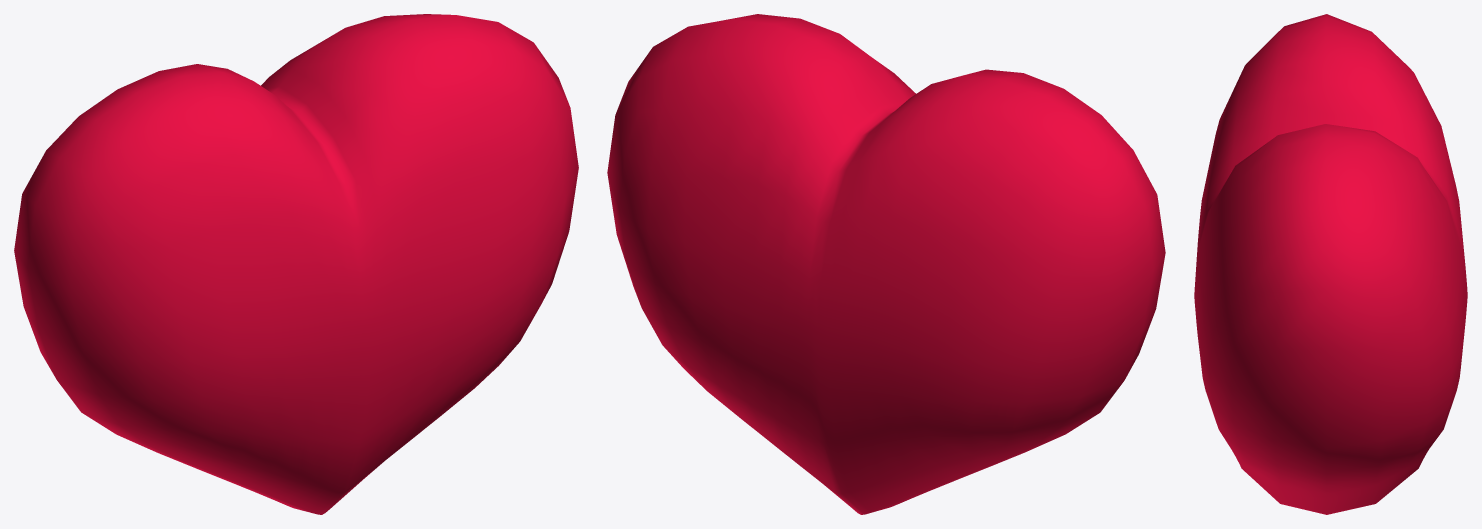
File: heart.glb
3 views of the same model, side by side, from view 1: azimuth 30°, elevation 25°; view 2: azimuth 150°, elevation 25°; view 3: azimuth 270°, elevation 25° (orthographic). The views are drawn at different scales.
Visible parts, largest first — view 1: 立方体.002; view 2: 立方体.002; view 3: 立方体.002.
Boxes of the visible parts, x1,y1,x2,y2 form: 立方体.002: (14, 14, 578, 514); 立方体.002: (607, 14, 1165, 514); 立方体.002: (1194, 14, 1467, 514).
Size of the model in its own units: 0.8745 by 0.7144 by 0.4111.
